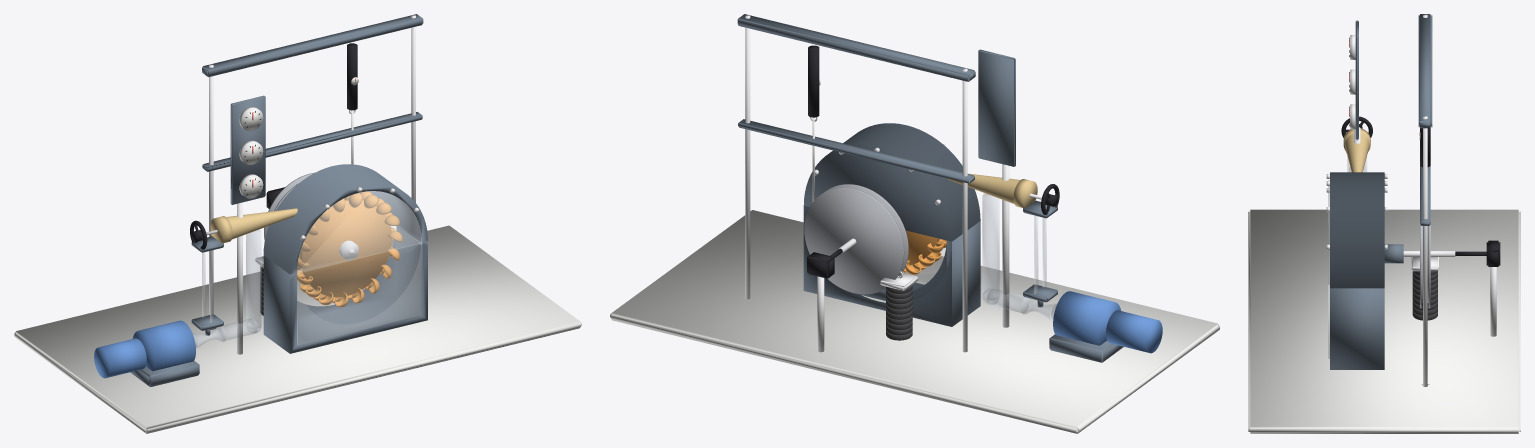
File: pelton-turbine.glb
3 views of the same model, side by side, from view 1: azimuth 30°, elevation 25°; view 2: azimuth 150°, elevation 25°; view 3: azimuth 270°, elevation 25° (orthographic). The views are drawn at different scales.
Visible parts, largest first — view 1: base.plate, casing.paint.001, casing.acrylic, runner.orange, frame.paint, pump.pump, frame.chrome, penstock.hose, nozzle.brass, pump.paint, venturi.paint, spring.black (+1 smaller); view 2: base.plate, casing.paint.001, frame.paint, brake_drum.grey, pump.pump, frame.chrome, penstock.hose, nozzle.brass, runner.orange, pump.paint, spring.black, venturi.paint (+3 smaller); view 3: base.plate, casing.paint.001, frame.paint, frame.chrome, nozzle.brass, brake_drum.grey, tacho.black, tacho.chrome, casing.paint, casing.acrylic, spring.black.
Part boxes in pixels (x1=…): base.plate: x1=14, y1=225, x2=581, y2=433; casing.paint.001: x1=263, y1=164, x2=427, y2=353; casing.acrylic: x1=297, y1=191, x2=421, y2=345; runner.orange: x1=297, y1=191, x2=402, y2=307; frame.paint: x1=202, y1=14, x2=423, y2=204; pump.pump: x1=94, y1=320, x2=195, y2=378; frame.chrome: x1=209, y1=15, x2=415, y2=354; penstock.hose: x1=192, y1=229, x2=261, y2=347; nozzle.brass: x1=210, y1=208, x2=297, y2=243; pump.paint: x1=130, y1=361, x2=199, y2=386; venturi.paint: x1=191, y1=236, x2=223, y2=335; spring.black: x1=347, y1=43, x2=357, y2=110; base.plate: x1=610, y1=210, x2=1219, y2=433; casing.paint.001: x1=803, y1=123, x2=980, y2=326; frame.paint: x1=737, y1=14, x2=1015, y2=183; brake_drum.grey: x1=804, y1=184, x2=908, y2=294; pump.pump: x1=1053, y1=291, x2=1162, y2=353; frame.chrome: x1=745, y1=15, x2=1009, y2=352; penstock.hose: x1=982, y1=193, x2=1056, y2=319; nozzle.brass: x1=947, y1=173, x2=1037, y2=207; runner.orange: x1=903, y1=230, x2=946, y2=274; pump.paint: x1=1049, y1=334, x2=1123, y2=362; spring.black: x1=808, y1=45, x2=819, y2=117; venturi.paint: x1=1023, y1=200, x2=1057, y2=307; base.plate: x1=1248, y1=209, x2=1520, y2=433; casing.paint.001: x1=1330, y1=172, x2=1384, y2=369; frame.paint: x1=1355, y1=14, x2=1432, y2=225; frame.chrome: x1=1354, y1=14, x2=1427, y2=386; nozzle.brass: x1=1343, y1=128, x2=1370, y2=172; brake_drum.grey: x1=1420, y1=225, x2=1430, y2=308; tacho.black: x1=1455, y1=240, x2=1500, y2=266; tacho.chrome: x1=1490, y1=267, x2=1496, y2=336; casing.paint: x1=1384, y1=244, x2=1403, y2=263; casing.acrylic: x1=1328, y1=180, x2=1329, y2=358; spring.black: x1=1420, y1=128, x2=1430, y2=167.
Size of the model in its own units: 1.9 by 1.13 by 1.
